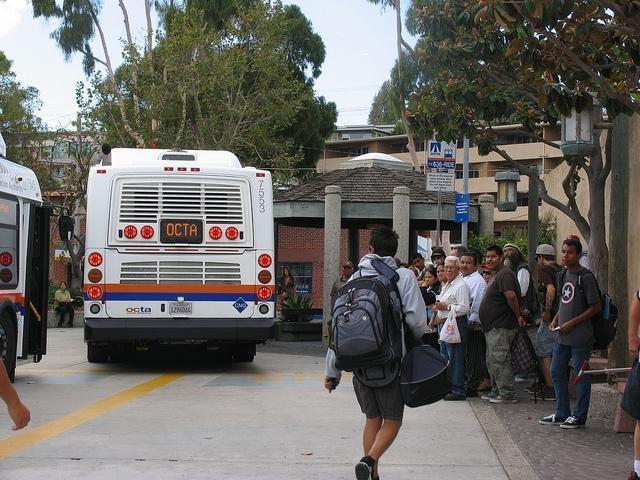bus: (84, 143, 275, 363), (1, 136, 51, 366)
